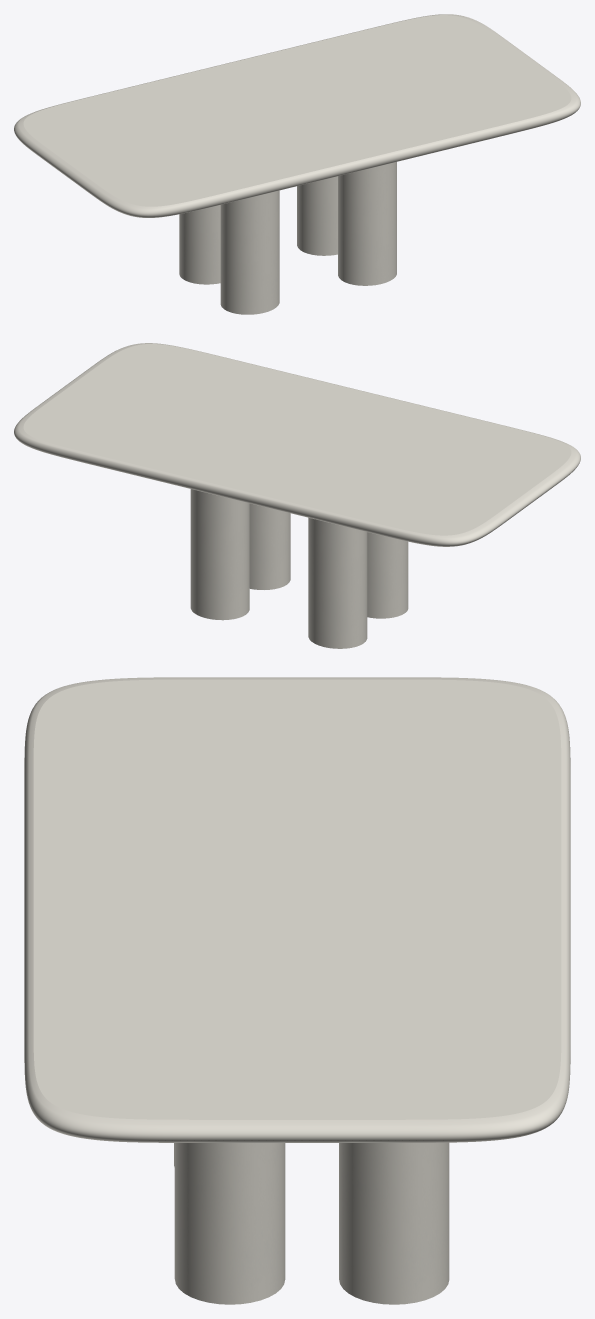
Rendered from pale_softrecta_round_grove.glb.
3 renders of one model, top to bottom at view 1: azimuth 30°, elevation 25°; view 2: azimuth 150°, elevation 25°; view 3: azimuth 270°, elevation 25°, orthographic. The views are drawn at different scales.
Visible parts, largest first — view 1: round_softrecta, grove; view 2: round_softrecta, grove; view 3: round_softrecta, grove.
Boxes of the visible parts, x1,y1,x2,y2 form: round_softrecta: [14, 14, 580, 217]; grove: [179, 162, 396, 314]; round_softrecta: [14, 343, 580, 546]; grove: [190, 489, 408, 648]; round_softrecta: [24, 677, 570, 1142]; grove: [174, 1142, 449, 1304].
Bounding box in the file's own units: 7.5 × 2.51 × 3.8.
1 material, 1 textured.
